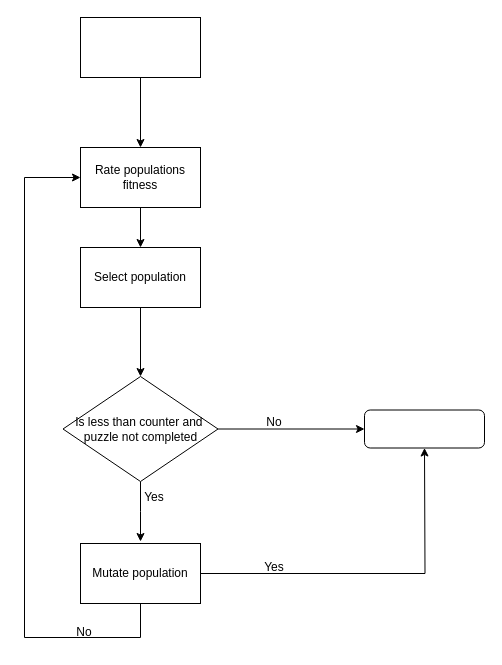
Some shapes in this 502 by 665 pixel diagram are drawn without their labels. Each missing label, with the box of its shape:
End: (364, 409, 484, 448)
Generate population: (80, 16, 200, 78)
